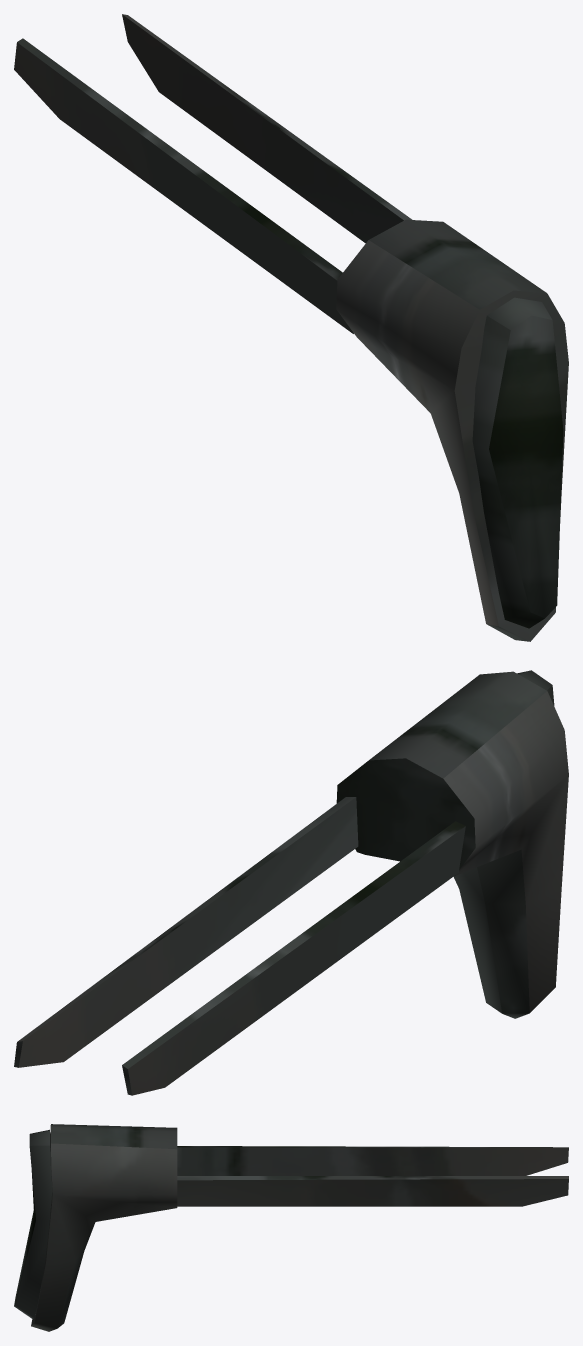
Rendered from MP5_Stock_Detracted.fbx.
3 views of the same model, one above another, from view 1: azimuth 30°, elevation 25°; view 2: azimuth 150°, elevation 25°; view 3: azimuth 270°, elevation 25° (orthographic). The views are drawn at different scales.
Parts seen in each view (by area): view 1: MP5_Stock_Detracted; view 2: MP5_Stock_Detracted; view 3: MP5_Stock_Detracted.
Part boxes in pixels (x1,y1,x2,y2): MP5_Stock_Detracted: [14, 14, 568, 641]; MP5_Stock_Detracted: [14, 670, 568, 1095]; MP5_Stock_Detracted: [14, 1124, 568, 1331].
Size of the model in its own units: 0.0295 by 0.173 by 0.0704.
